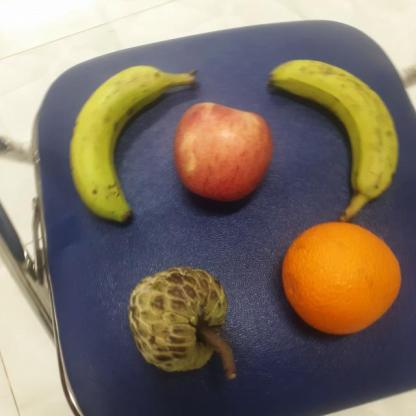annona: (119, 265, 238, 381)
apple: (172, 101, 275, 206)
banana: (270, 57, 399, 225), (63, 59, 185, 222)
orange: (276, 218, 404, 347)
